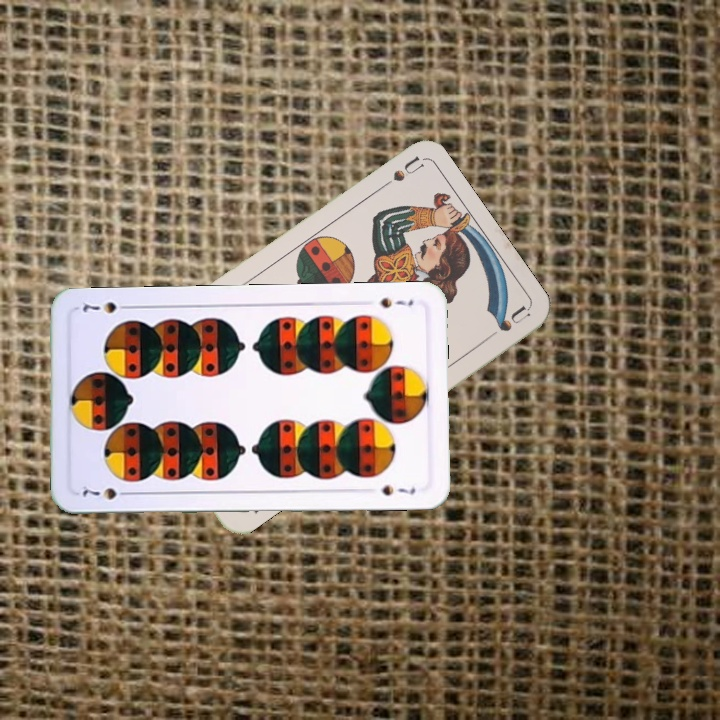S7: (78, 482, 134, 502), (376, 294, 416, 311)
SU: (371, 153, 425, 196)
